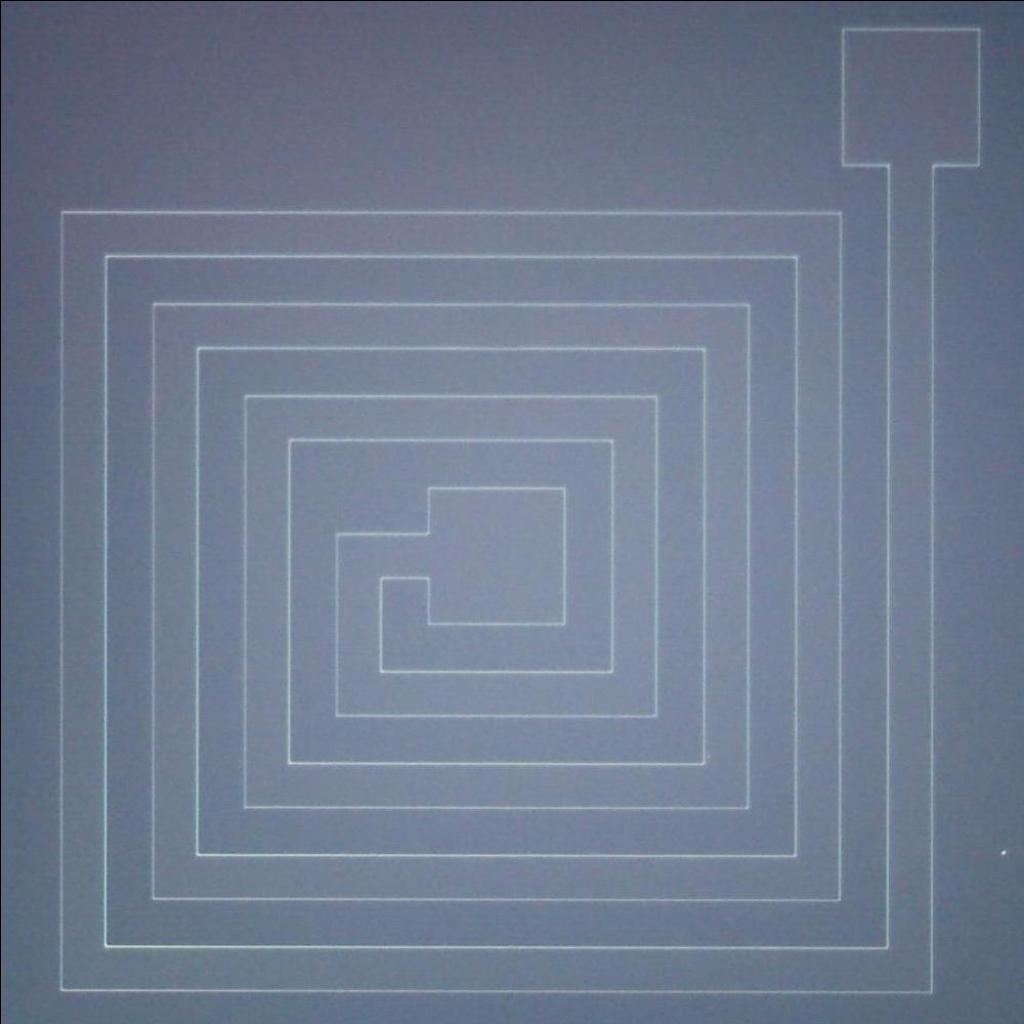dot: (986, 837, 1014, 870)
